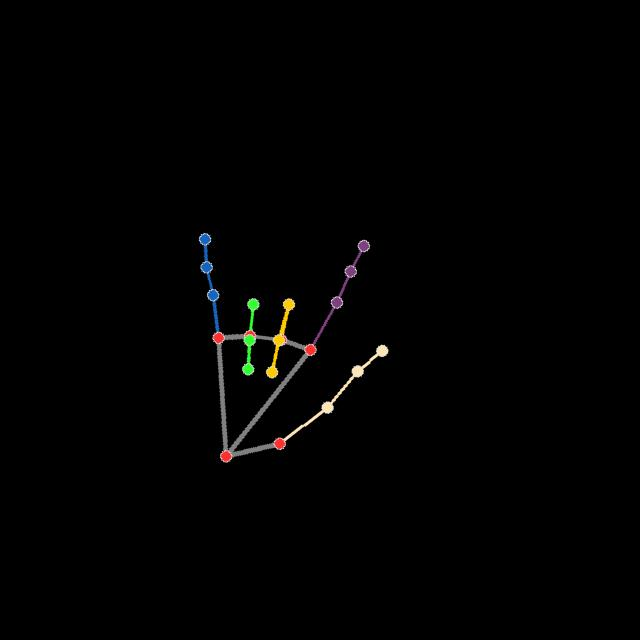spiderman: (195, 226, 392, 464)
